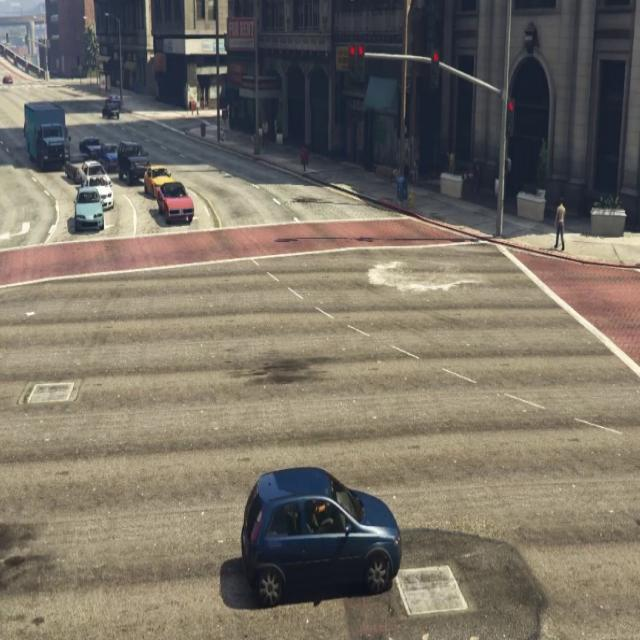Red-Signal: (339, 23, 375, 95), (494, 74, 520, 135), (422, 39, 446, 96)
